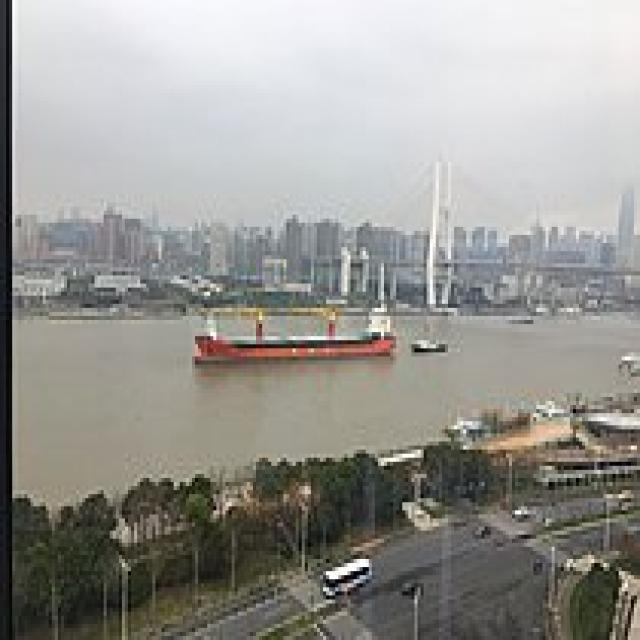Ship: (178, 289, 410, 370)
